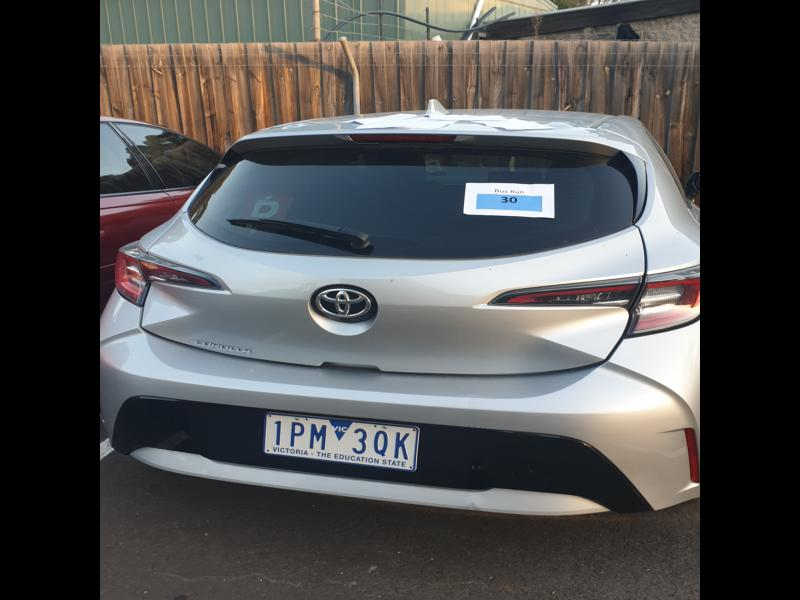BusRun: (474, 192, 544, 211)
PlateNo: (265, 415, 422, 469)
